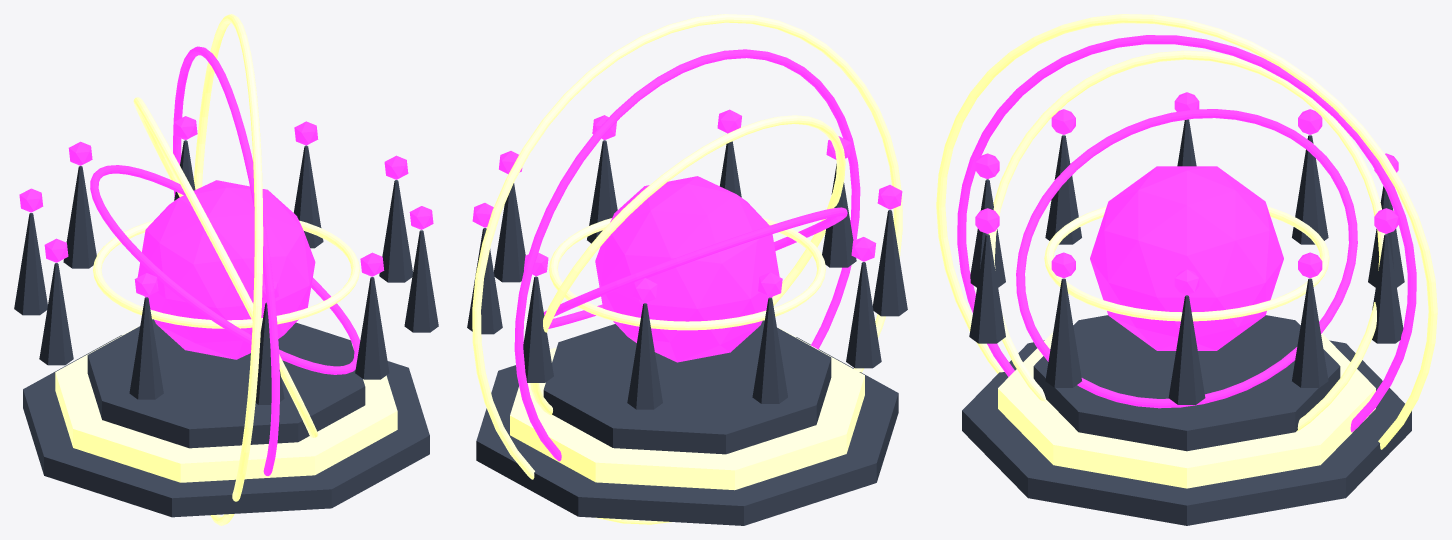
The model's file is gpu-blender-v32.glb.
The picture shows the model from 3 angles, left to right: view 1: azimuth 30°, elevation 25°; view 2: azimuth 150°, elevation 25°; view 3: azimuth 270°, elevation 25°; orthographic projection. The views are drawn at different scales.
Visible parts, largest first — view 1: Cylinder.002, Cylinder, SovereignCore_envguard-secrets-vault, Cylinder.001, Torus.004, Torus.003, Torus.001, Torus, Torus.002, Cone.004, Cone.008, Cone.005 (+6 smaller); view 2: Cylinder.002, SovereignCore_envguard-secrets-vault, Cylinder, Cylinder.001, Torus.004, Torus.003, Torus.002, Torus, Torus.001, Cone.005, Cone.003, Cone.006 (+7 smaller); view 3: SovereignCore_envguard-secrets-vault, Cylinder.002, Cylinder, Cylinder.001, Torus.004, Torus.003, Torus.001, Torus.002, Torus, Cone, Cone.008, Cone.001 (+7 smaller).
Boxes of the visible parts, x1,y1,x2,y2 form: Cylinder.002: (87, 319, 365, 448); Cylinder: (23, 335, 429, 517); SovereignCore_envguard-secrets-vault: (137, 180, 315, 359); Cylinder.001: (55, 326, 397, 482); Torus.004: (194, 14, 263, 525); Torus.003: (173, 46, 279, 475); Torus.001: (90, 165, 360, 374); Torus: (93, 220, 359, 328); Torus.002: (133, 97, 318, 437); Cone.004: (14, 213, 47, 315); Cone.008: (355, 277, 389, 379); Cone.005: (39, 263, 73, 365); Cylinder.002: (543, 320, 831, 454); SovereignCore_envguard-secrets-vault: (595, 176, 779, 362); Cylinder: (476, 337, 898, 525); Cylinder.001: (510, 328, 864, 490); Torus.004: (472, 14, 902, 524); Torus.003: (514, 49, 860, 461); Torus.002: (530, 115, 845, 415); Torus: (549, 218, 825, 330); Torus.001: (544, 207, 847, 328); Cone.005: (846, 262, 881, 368); Cone.003: (627, 303, 662, 409); Cone.006: (873, 210, 907, 316); SovereignCore_envguard-secrets-vault: (1090, 166, 1283, 350); Cylinder.002: (1033, 315, 1340, 451); Cylinder: (962, 340, 1411, 525); Cylinder.001: (998, 332, 1375, 488); Torus.004: (936, 14, 1437, 449); Torus.003: (957, 35, 1416, 432); Torus.001: (1016, 109, 1357, 408); Torus.002: (988, 50, 1385, 431); Torus: (1044, 206, 1329, 321); Cone: (1168, 295, 1205, 404); Cone.008: (969, 234, 1005, 343); Cone.001: (1292, 278, 1328, 387).
Bounding box in the file's own units: 4.41 × 5.33 × 4.9.
